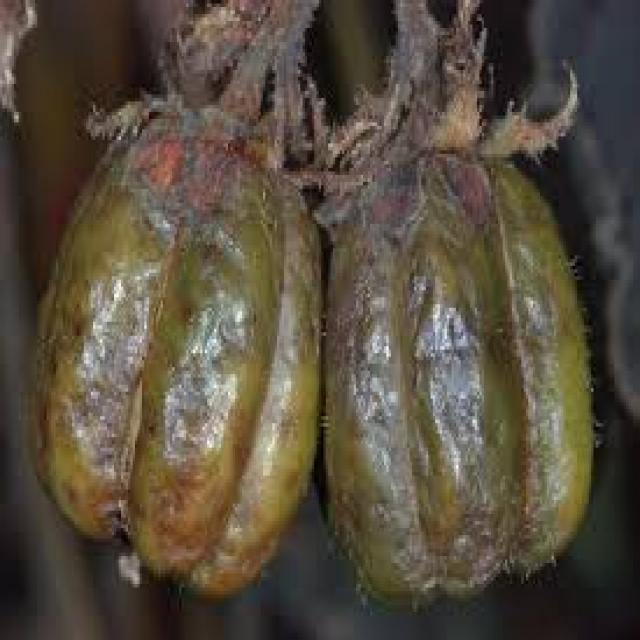organic waste: (24, 18, 324, 594), (307, 18, 596, 602)
